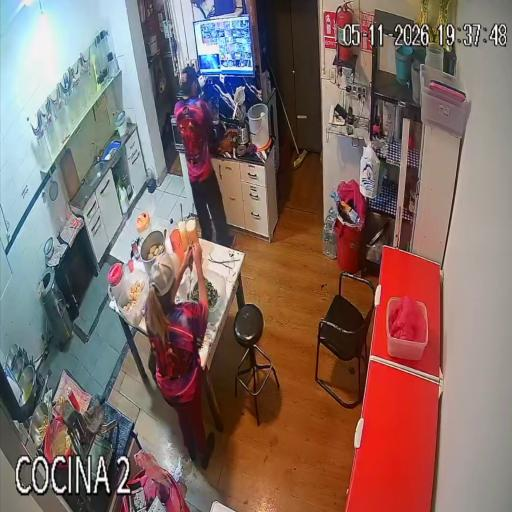Envase Ketchup: (66, 389, 79, 411)
Envase Llajua: (59, 395, 66, 406)
Jarra1: (108, 263, 125, 300)
Jarra2: (136, 211, 154, 244)
Microondas: (171, 116, 184, 151)
Persona1: (175, 67, 231, 244)
Persona2: (145, 243, 214, 467)
Tapa de olla: (43, 237, 54, 262)
Taper2: (207, 272, 226, 324)
Taper4: (116, 270, 149, 326)
olla: (139, 230, 166, 277)
